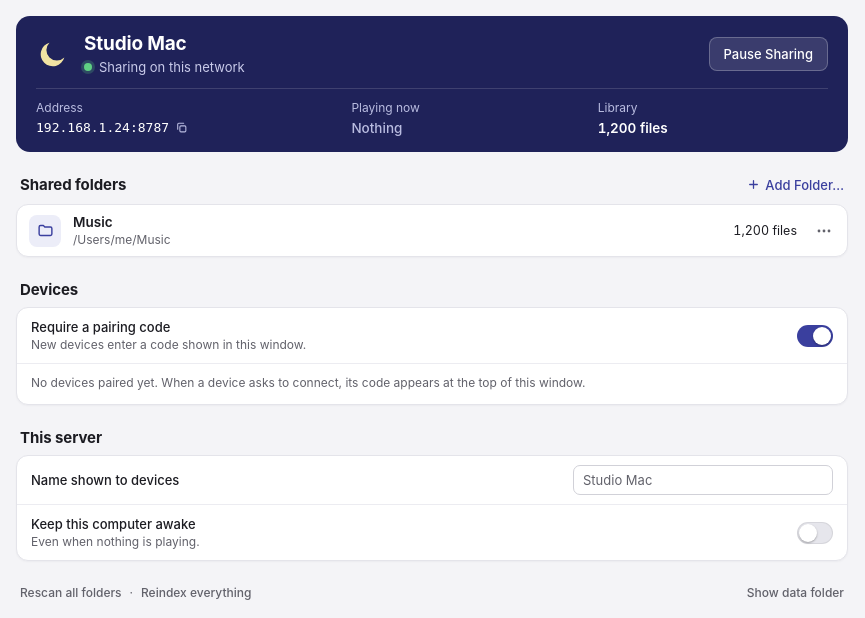
Scenario: renaming › a double-click edits the name in place, and Enter saves it trimmed
Later steps or results of the test are not shown.
Double-click the text "Music" at (93,222), box [73,214,112,230]
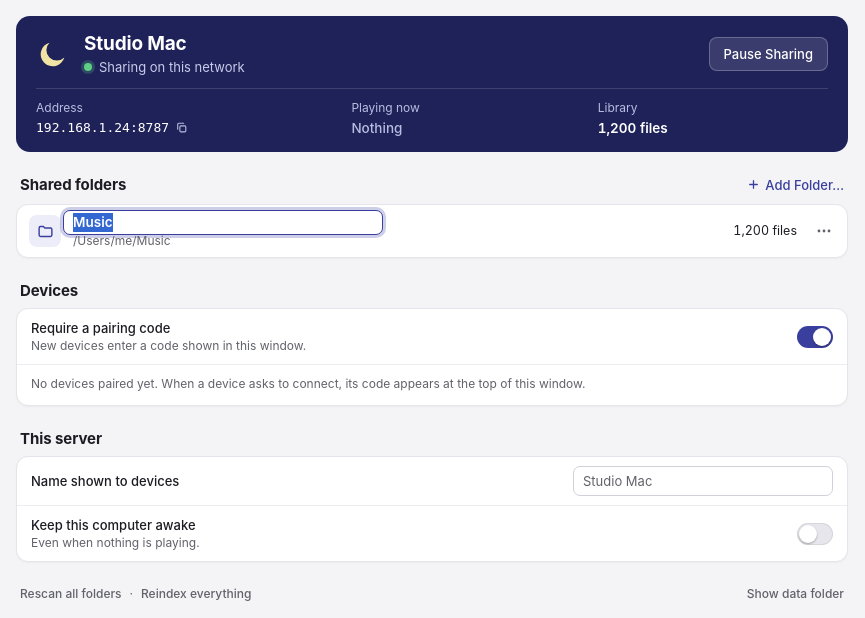
Result: the field named "Folder name" holds "Music" at [63,210,383,235]
